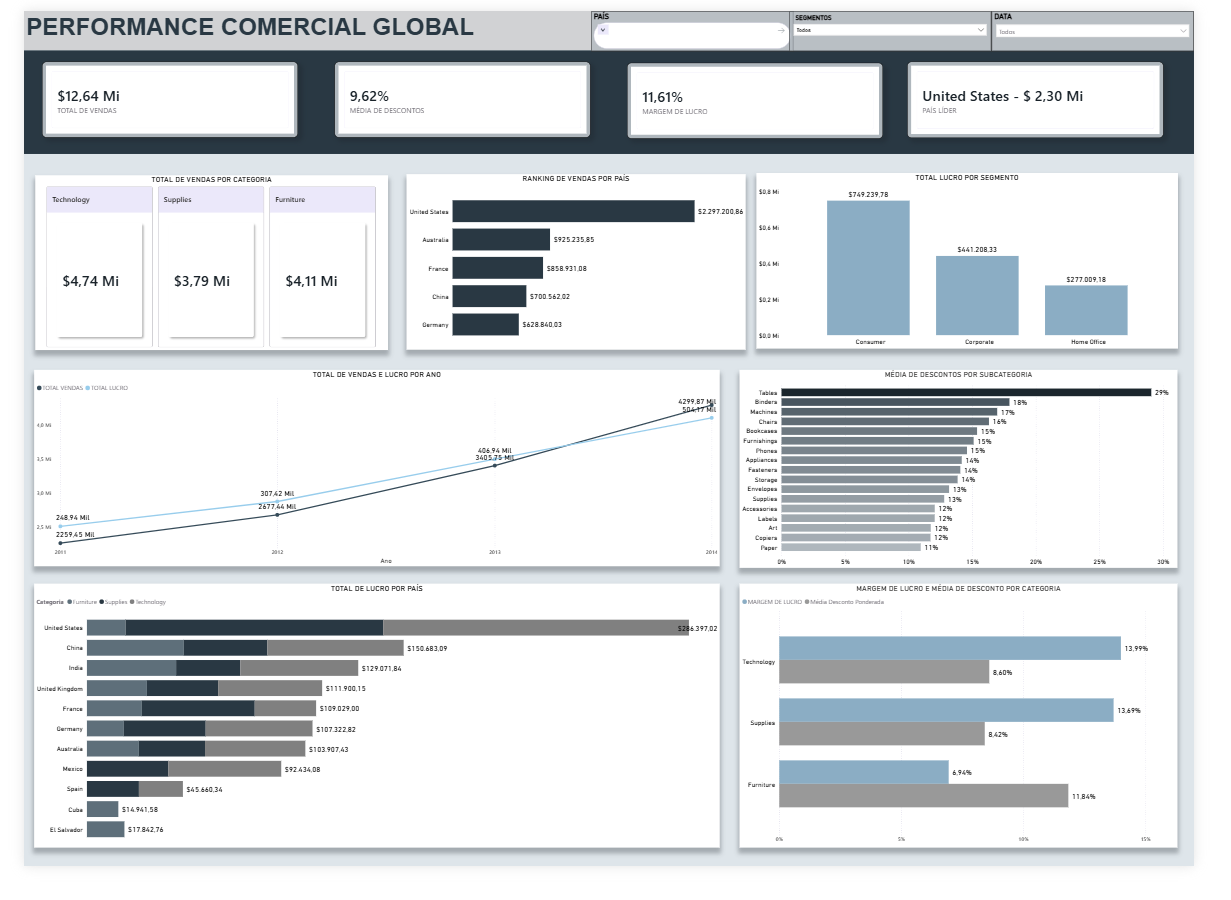

The dashboard page shown, as its layout file describes it:
{"tool":"powerbi","page":{"name":"VENDAS","canvas":[2600,1900],"ordinal":0},"visuals":[{"type":"textbox","box":[0,0,2600,86.7],"z":0},{"type":"textbox","box":[0,86.7,2600,230],"z":1000},{"type":"cardVisual","title":"TOTAL DE VENDAS POR CATEGORIA","fields":{"Data":["MEDIDA.TOTAL VENDAS"],"Rows":["D_CATEGORIAS.Categoria"]},"box":[24,364,784,388],"z":2000},{"type":"slicer","title":"DATA","fields":{"Values":["D-CALENDARIO.Ano","D-CALENDARIO.Mês","D-CALENDARIO.Dia"]},"box":[2150,0,450,90],"z":4000},{"type":"cardVisual","fields":{"Data":["MEDIDA.TOTAL VENDAS"]},"box":[40.5,111.9,569,169],"z":5000},{"type":"textSlicer","title":"PAÍS","fields":{"Values":["Vendas.Pais"]},"box":[1260,0,450,90],"z":6000},{"type":"cardVisual","fields":{"Data":["MEDIDA.Média Desconto Ponderada"]},"box":[690.5,111.9,569,169],"z":7000},{"type":"cardVisual","fields":{"Data":["MEDIDA.KPI"]},"box":[1961.9,111.9,570,170],"z":8000},{"type":"clusteredBarChart","title":"RANKING  DE VENDAS POR PAÍS","fields":{"Y":["MEDIDA.RANKING"],"Category":["Vendas.Pais"]},"box":[850,363.3,753.3,390],"z":9000},{"type":"clusteredColumnChart","title":"TOTAL LUCRO  POR  SEGMENTO","fields":{"Category":["Vendas.Segmento"],"Y":["MEDIDA.TOTAL LUCRO"]},"box":[1626.7,360,936.7,390],"z":10000},{"type":"lineChart","title":"TOTAL DE VENDAS E LUCRO POR ANO","fields":{"Y":["MEDIDA.TOTAL VENDAS"],"Category":["Vendas.Data_Pedido.Variation.Hierarquia de datas.Ano"],"Y2":["MEDIDA.TOTAL LUCRO"]},"box":[23.3,796.7,1523.3,436.7],"z":11000},{"type":"barChart","title":"TOTAL DE LUCRO POR PAÍS","fields":{"Series":["Vendas.Categoria"],"Category":["Vendas.Pais"],"Y":["MEDIDA.RANKING L"]},"box":[23.3,1273.3,1523.3,586.7],"z":12000},{"type":"slicer","fields":{"Values":["Vendas.Segmento","Vendas.Categoria","Vendas.SubCategoria"]},"box":[1700,0,450,90],"z":13000},{"type":"cardVisual","fields":{"Data":["MEDIDA.MARGEM LUCRO"]},"box":[1340.5,114.3,569,169],"z":14000},{"type":"clusteredBarChart","title":"MARGEM DE LUCRO E  MÉDIA DE DESCONTO POR CATEGORIA","fields":{"Category":["Vendas.Categoria"],"Y":["MEDIDA.MARGEM DE LUCRO","MEDIDA.Média Desconto Ponderada"]},"box":[1590,1273.3,973.3,586.7],"z":15000},{"type":"clusteredBarChart","title":"MÉDIA DE DESCONTOS   POR SUBCATEGORIA","fields":{"Y":["MEDIDA.MÉDIA DE DESCONTOS"],"Category":["Vendas.SubCategoria"]},"box":[1590,796.7,973.3,440],"z":16500}]}

Visuals, with their boxes in screenshot pixels (x1, y1, x2, y2), scaled from the page's 2600x1900 canvas onto the 1231x900 screenshot:
textbox: <region>0, 0, 1230, 41</region>
textbox: <region>0, 41, 1230, 150</region>
"TOTAL DE VENDAS POR CATEGORIA" cardVisual: <region>11, 172, 383, 356</region>
"DATA" slicer: <region>1018, 0, 1230, 43</region>
cardVisual - MEDIDA.TOTAL VENDAS: <region>19, 53, 289, 133</region>
"PAÍS" textSlicer: <region>597, 0, 810, 43</region>
cardVisual - MEDIDA.Média Desconto Ponderada: <region>327, 53, 596, 133</region>
cardVisual - MEDIDA.KPI: <region>929, 53, 1199, 134</region>
"RANKING  DE VENDAS POR PAÍS" clusteredBarChart: <region>402, 172, 759, 357</region>
"TOTAL LUCRO  POR  SEGMENTO" clusteredColumnChart: <region>770, 171, 1214, 355</region>
"TOTAL DE VENDAS E LUCRO POR ANO" lineChart: <region>11, 377, 732, 584</region>
"TOTAL DE LUCRO POR PAÍS" barChart: <region>11, 603, 732, 881</region>
slicer - Vendas.Segmento x Vendas.Categoria: <region>805, 0, 1018, 43</region>
cardVisual - MEDIDA.MARGEM LUCRO: <region>635, 54, 904, 134</region>
"MARGEM DE LUCRO E  MÉDIA DE DESCONTO POR CATEGORIA" clusteredBarChart: <region>753, 603, 1214, 881</region>
"MÉDIA DE DESCONTOS   POR SUBCATEGORIA" clusteredBarChart: <region>753, 377, 1214, 586</region>
